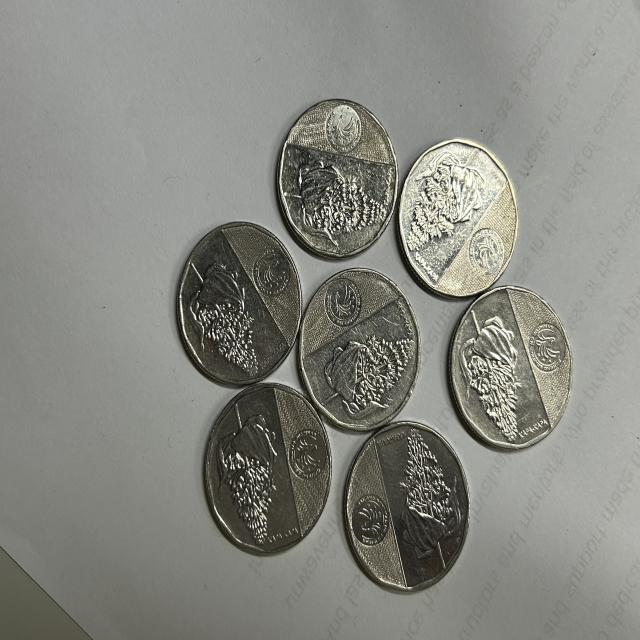10_New_Back: (410, 142, 510, 266), (181, 250, 264, 372), (464, 310, 538, 442), (398, 428, 462, 567), (286, 156, 378, 252), (222, 403, 284, 542), (321, 329, 414, 416)
